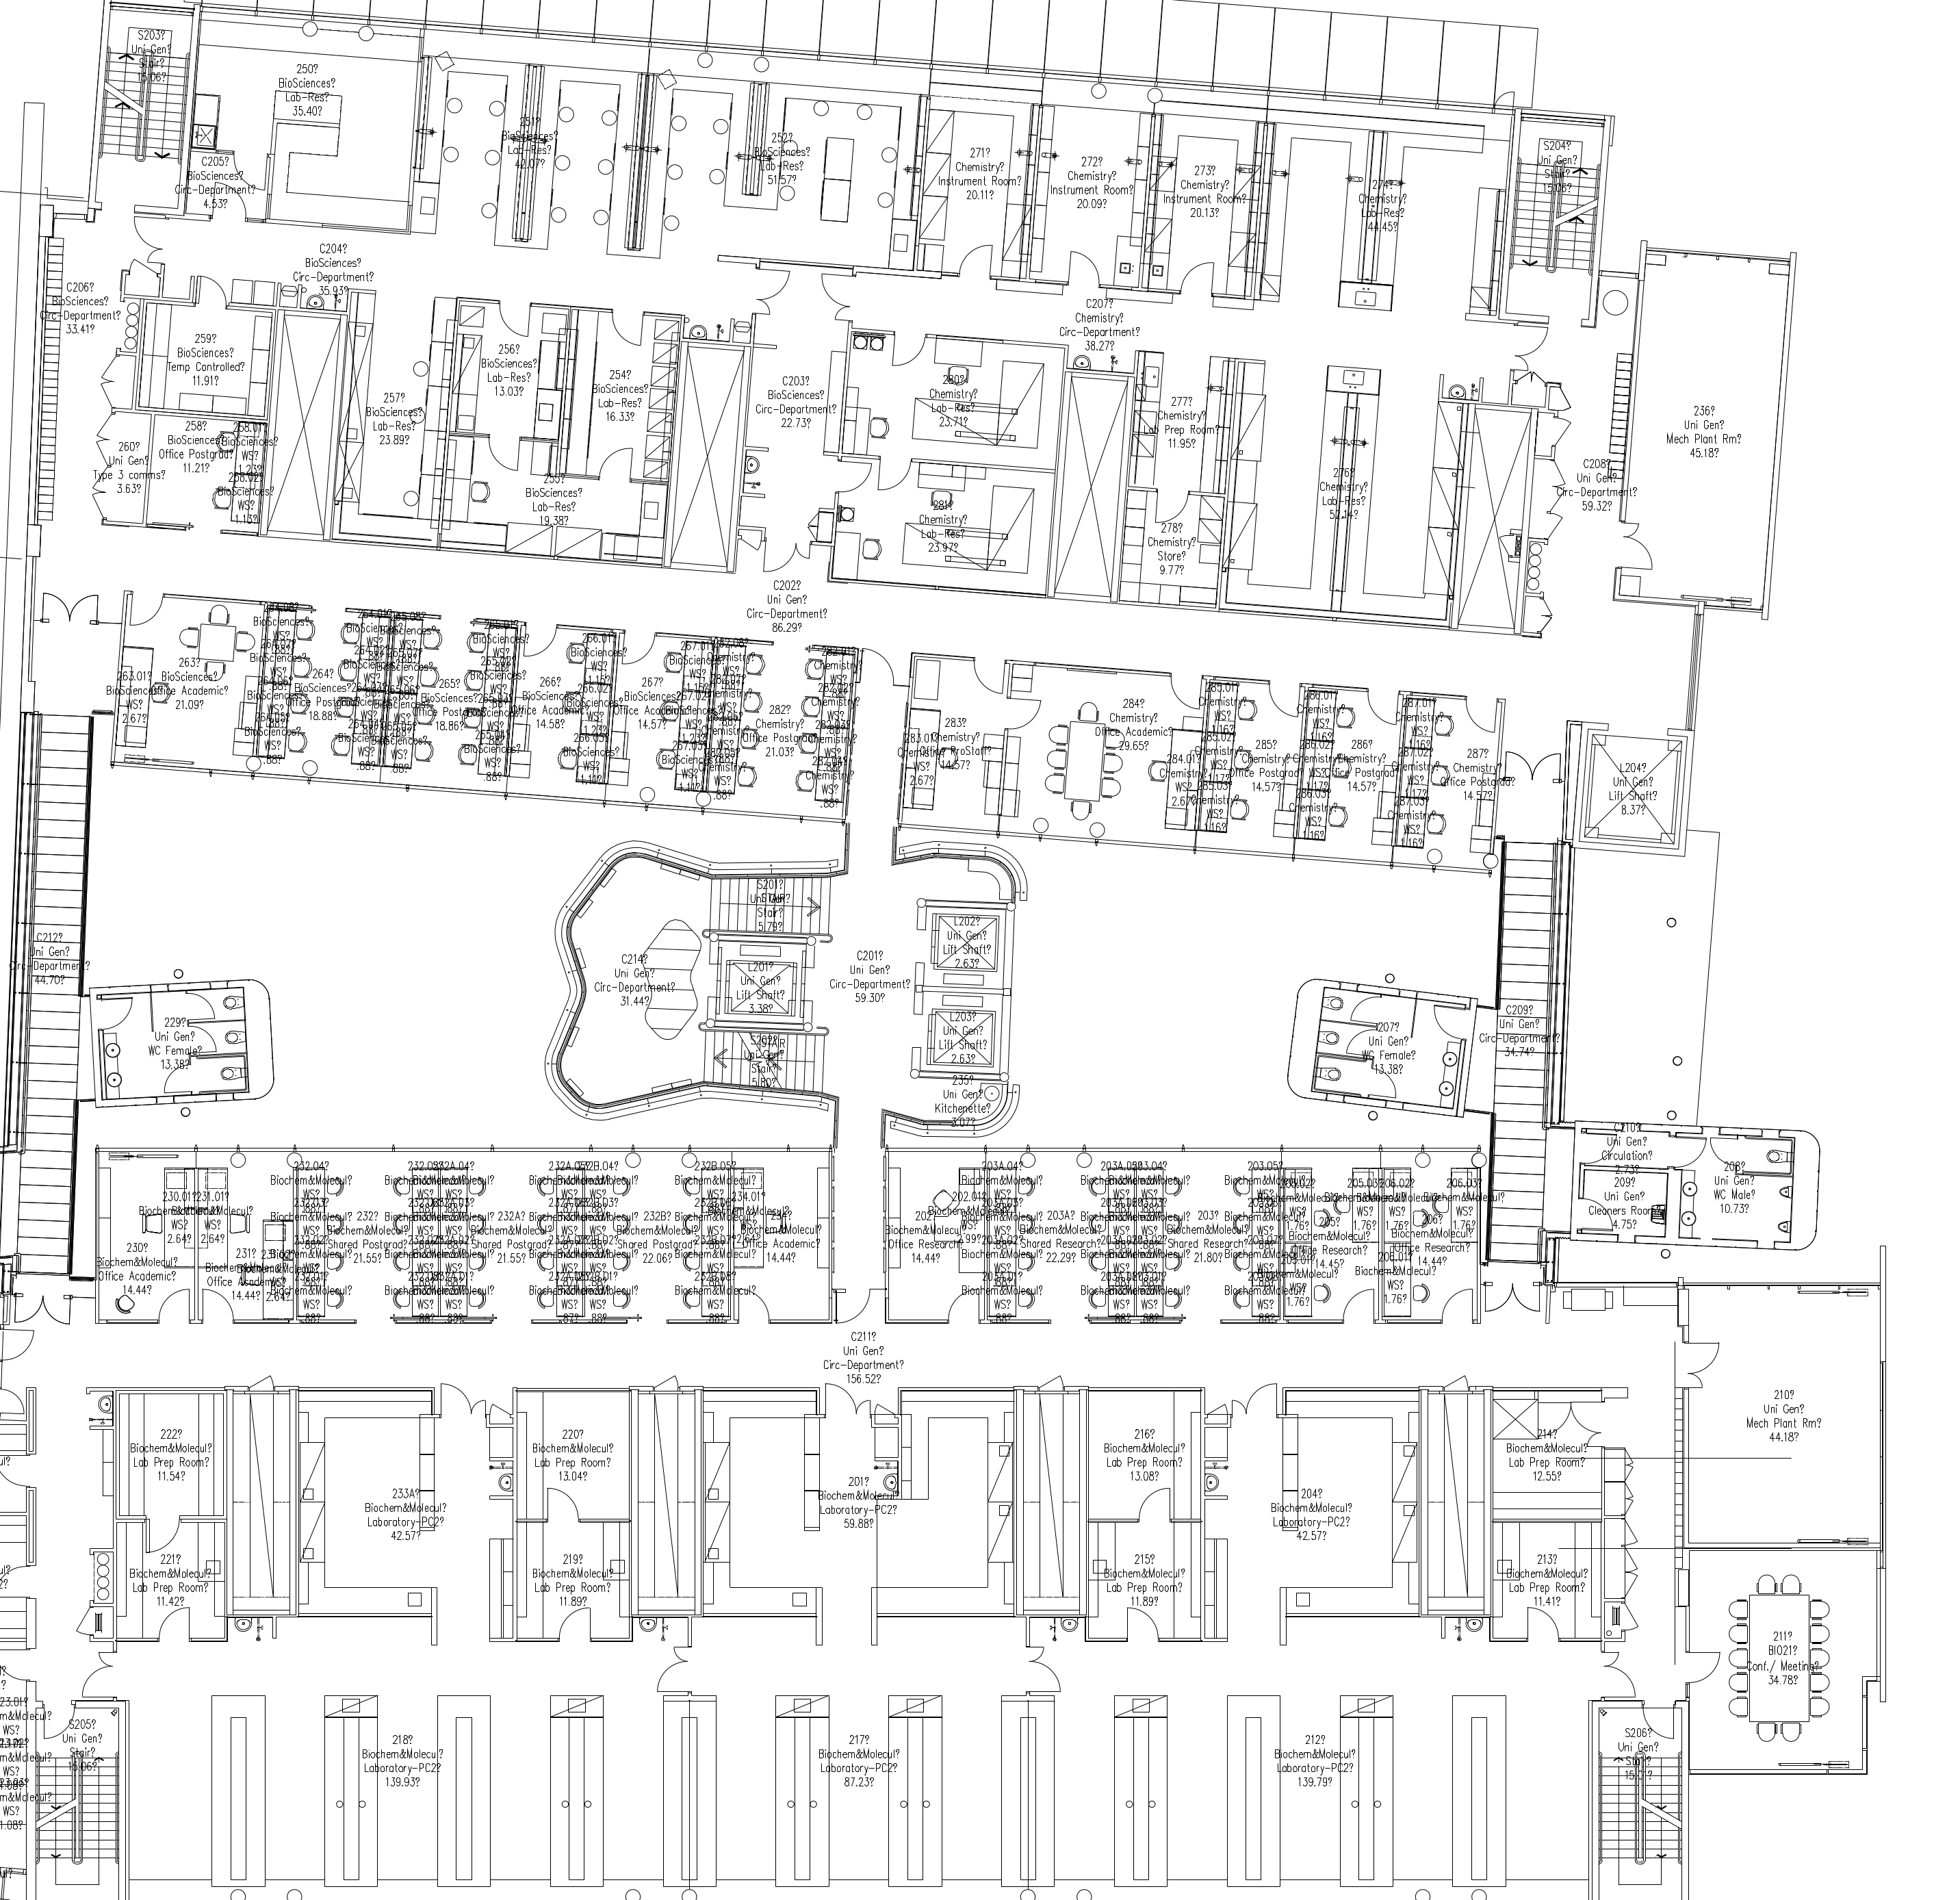text: (901, 696, 996, 789), (289, 229, 385, 311), (164, 308, 248, 399), (747, 369, 842, 444), (1095, 1414, 1190, 1487), (500, 663, 590, 738), (744, 567, 836, 639), (908, 488, 980, 581), (1479, 990, 1564, 1067), (1552, 451, 1643, 523), (31, 276, 131, 341), (175, 149, 261, 224), (742, 1202, 822, 1281), (1102, 1541, 1186, 1617), (740, 696, 821, 772), (1052, 294, 1153, 353), (1015, 1202, 1102, 1270), (1048, 150, 1137, 217), (514, 460, 593, 535), (934, 143, 1027, 206), (1668, 394, 1745, 469), (152, 651, 238, 717), (905, 366, 982, 439), (593, 947, 682, 1009), (82, 437, 171, 500), (1095, 688, 1178, 756), (618, 1204, 703, 1268), (1438, 740, 1517, 810), (1325, 733, 1403, 803), (9, 931, 96, 994), (93, 1239, 184, 1298), (812, 1470, 898, 1533), (812, 1729, 899, 1790), (829, 945, 912, 1009), (1269, 1730, 1358, 1790), (532, 1428, 616, 1491), (273, 52, 343, 128), (535, 1543, 614, 1610), (324, 1207, 411, 1267), (584, 355, 656, 427), (1167, 1207, 1251, 1268), (409, 677, 493, 738), (1167, 157, 1251, 219), (472, 1207, 558, 1267), (353, 381, 434, 444), (1232, 731, 1304, 801), (1601, 751, 1668, 826), (103, 665, 178, 731), (129, 1424, 213, 1484), (1505, 1424, 1591, 1482), (1508, 1548, 1589, 1610), (121, 16, 182, 96), (159, 413, 229, 483), (607, 674, 691, 731), (1293, 1212, 1372, 1274), (822, 1328, 908, 1384), (1517, 133, 1587, 201), (1746, 1629, 1820, 1694), (1146, 388, 1220, 453), (885, 1207, 968, 1265), (1748, 1386, 1823, 1449), (285, 663, 362, 724), (360, 1734, 446, 1788), (206, 1242, 287, 1300), (364, 1485, 446, 1541), (479, 339, 544, 409), (129, 1552, 210, 1608), (1585, 1177, 1666, 1233), (54, 1715, 114, 1790), (1274, 1487, 1356, 1541), (495, 110, 560, 177), (143, 1013, 212, 1076), (754, 121, 814, 191), (1402, 1211, 1475, 1267), (934, 1006, 992, 1074), (1356, 1016, 1421, 1076), (1144, 516, 1206, 577), (738, 875, 798, 938), (936, 1072, 996, 1134), (733, 1027, 793, 1086), (1596, 1114, 1652, 1177), (1349, 178, 1414, 233), (731, 955, 784, 1020), (1316, 465, 1372, 523), (1612, 1722, 1664, 1779), (945, 913, 996, 973), (1710, 1158, 1759, 1218)
